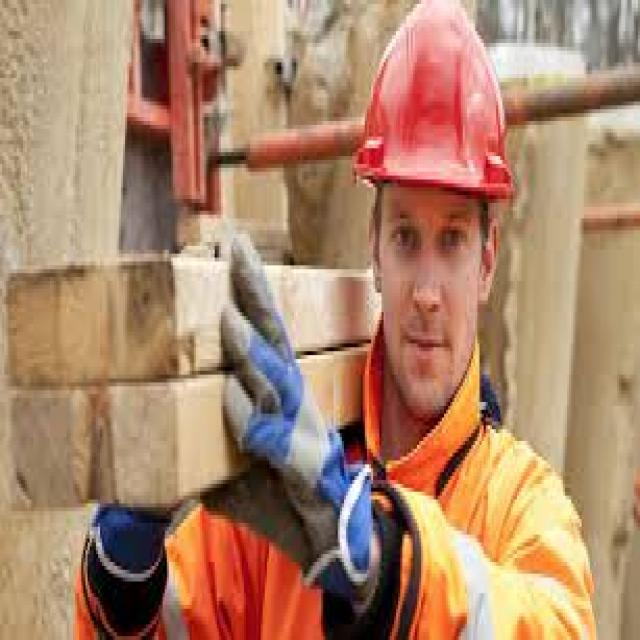reflective_jacket: (354, 386, 594, 639)
safety_helmet: (348, 3, 523, 218)
